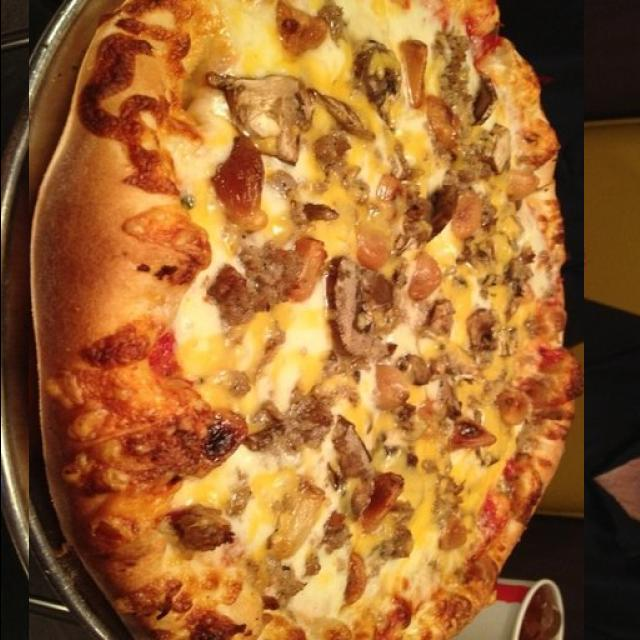pizza: (28, 0, 583, 640)
